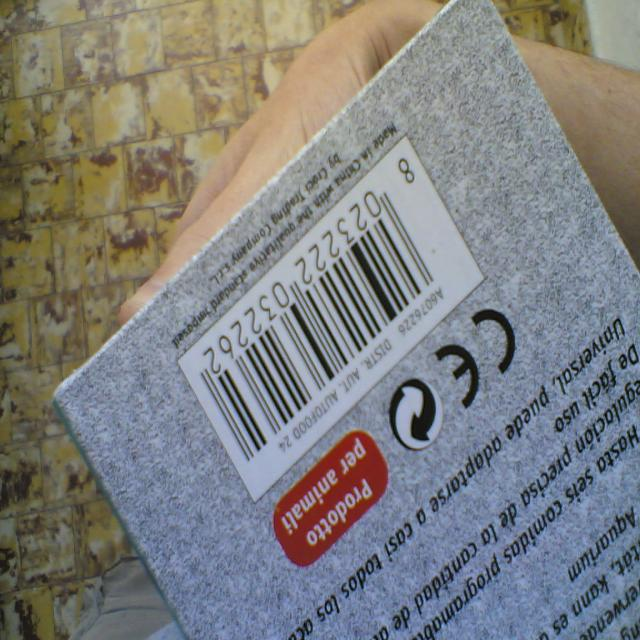barcode: (179, 137, 484, 500)
